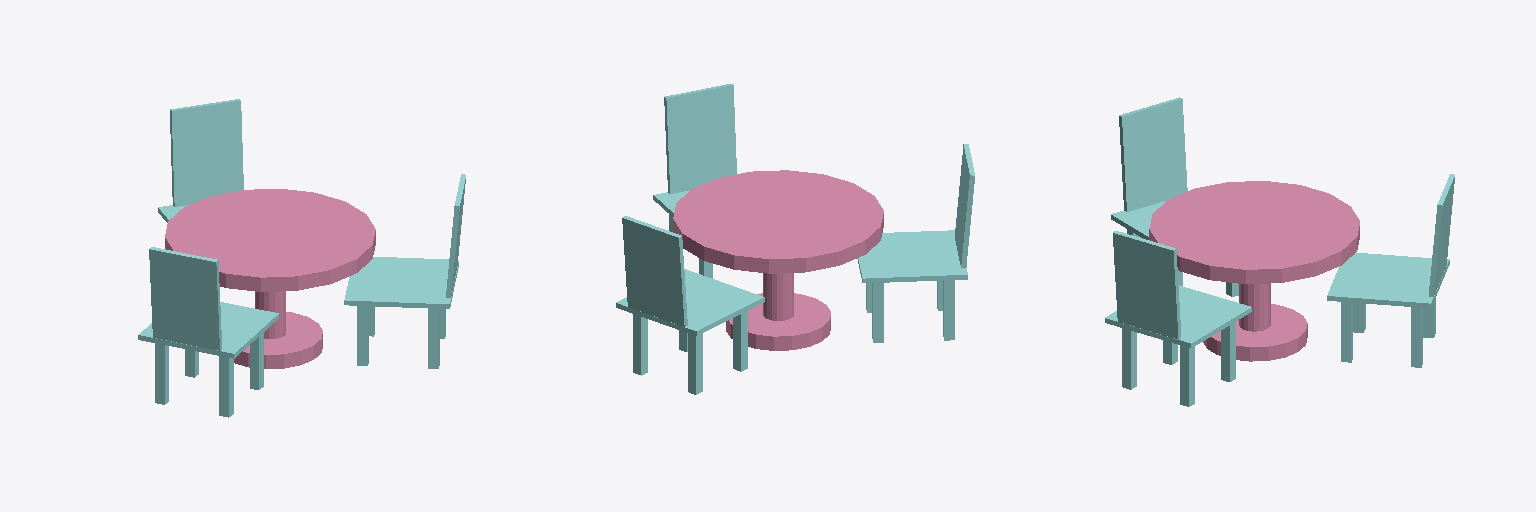
The model's file is cafe-1.obj.
The picture shows the model from 3 angles: view 1: azimuth 30°, elevation 25°; view 2: azimuth 150°, elevation 25°; view 3: azimuth 270°, elevation 25°; orthographic projection.
Visible parts, largest first — view 1: Cylinder058, Box365, Box364, Box354, Cylinder060, Box361, Cylinder059, Box349, Box362, Box358, Box351, Box352 (+1 smaller); view 2: Cylinder058, Box349, Box365, Box361, Cylinder060, Box366, Box364, Cylinder059, Box355, Box363, Box360, Box358 (+1 smaller); view 3: Cylinder058, Box364, Box349, Box366, Box354, Cylinder060, Box365, Cylinder059, Box361, Box353, Box352, Box350 (+2 smaller).
Part boxes in pixels (bbox=[...]): Cylinder058: bbox=[165, 189, 375, 291]; Box365: bbox=[170, 99, 243, 206]; Box364: bbox=[149, 247, 221, 350]; Box354: bbox=[344, 257, 458, 308]; Cylinder060: bbox=[234, 312, 322, 368]; Box361: bbox=[138, 302, 278, 358]; Cylinder059: bbox=[255, 291, 285, 338]; Box349: bbox=[446, 174, 465, 297]; Box362: bbox=[219, 356, 233, 417]; Box358: bbox=[155, 343, 168, 404]; Box351: bbox=[357, 306, 368, 365]; Box352: bbox=[428, 308, 439, 368]; Cylinder058: bbox=[673, 170, 883, 273]; Box349: bbox=[664, 84, 736, 193]; Box365: bbox=[622, 216, 687, 326]; Box361: bbox=[857, 230, 967, 282]; Cylinder060: bbox=[726, 293, 830, 350]; Box366: bbox=[616, 269, 764, 335]; Box364: bbox=[955, 144, 974, 267]; Cylinder059: bbox=[763, 273, 793, 320]; Box355: bbox=[688, 333, 702, 394]; Box363: bbox=[633, 314, 647, 375]; Box360: bbox=[733, 311, 747, 371]; Box358: bbox=[943, 280, 954, 340]; Cylinder058: bbox=[1149, 181, 1359, 283]; Box364: bbox=[1119, 97, 1187, 211]; Box349: bbox=[1113, 231, 1180, 339]; Box366: bbox=[1327, 253, 1449, 307]; Box354: bbox=[1105, 285, 1251, 347]; Cylinder060: bbox=[1203, 304, 1307, 361]; Box365: bbox=[1429, 174, 1454, 296]; Cylinder059: bbox=[1239, 283, 1270, 331]; Box361: bbox=[1111, 201, 1165, 239]; Box353: bbox=[1180, 345, 1194, 406]; Box352: bbox=[1122, 328, 1136, 389]; Box350: bbox=[1221, 322, 1235, 381].
Bounding box in the file's own units: 0.2728 × 0.1352 × 0.2608.